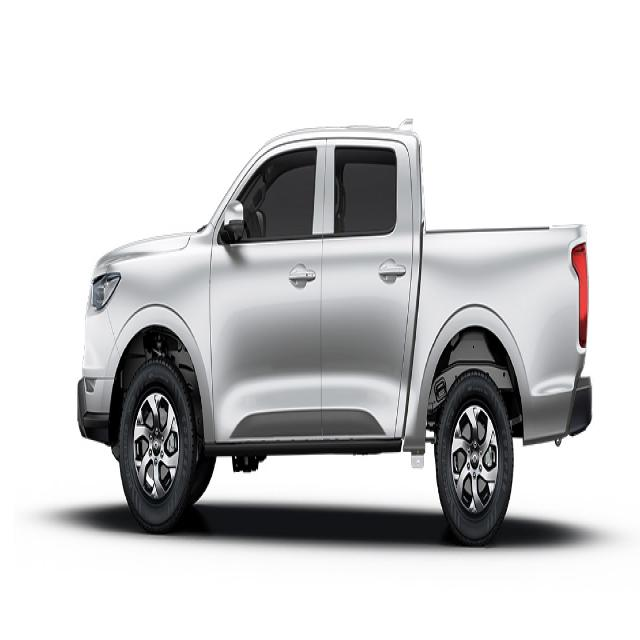CMT: (83, 121, 596, 532)
